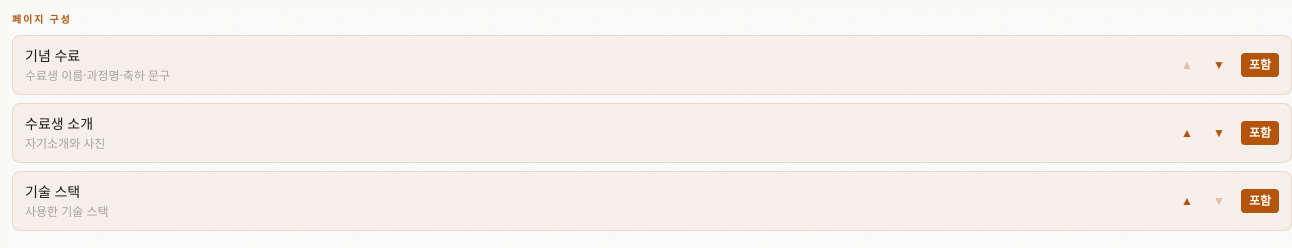
Test: PageBlockList › 여러 페이지에서 한 페이지만 토글해도 다른 페이지는 영향을 받지 않아야 한다
The width and height of the screenshot is (1292, 248).
Click the button "포함" in the row of "자기소개와 사진": [1260, 133] box x1=1241 y1=121 x2=1279 y2=145
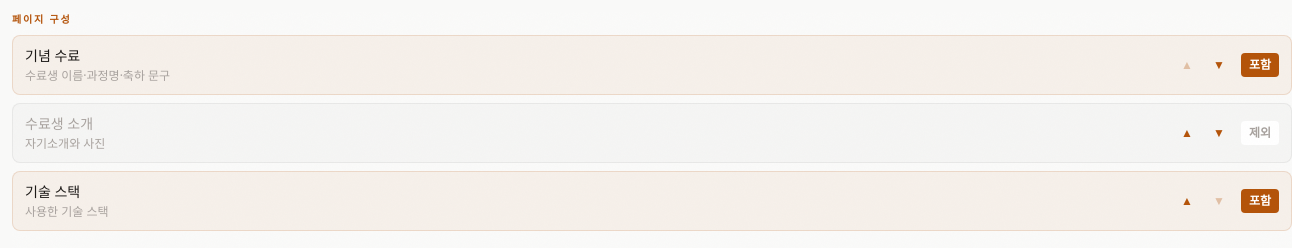
Expected: the button "포함" in the row of "수료생 이름·과정명·축하 문구" is shown, x1=1241 y1=53 x2=1279 y2=77
Result: the button "제외" is shown at x1=1241 y1=121 x2=1279 y2=145
